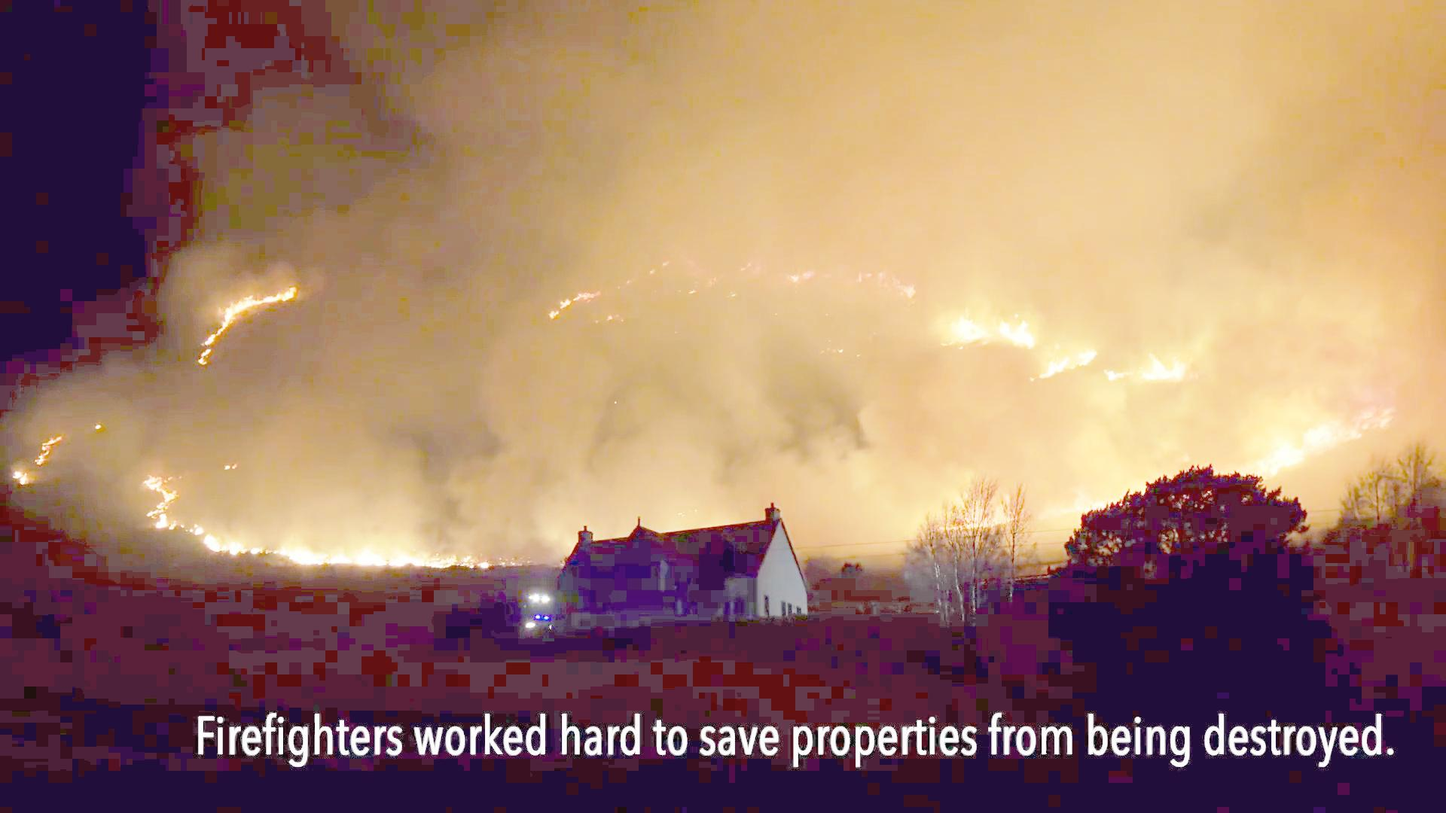fire: (195, 532, 462, 572), (1248, 418, 1345, 481), (947, 303, 1031, 353), (1114, 354, 1190, 383)
smoke: (705, 0, 1446, 207), (558, 326, 906, 492)
